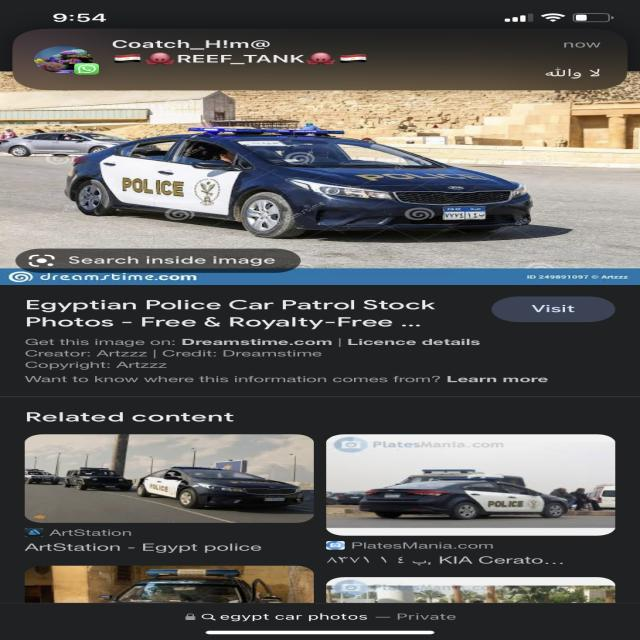License Plate: (444, 206, 486, 220)
